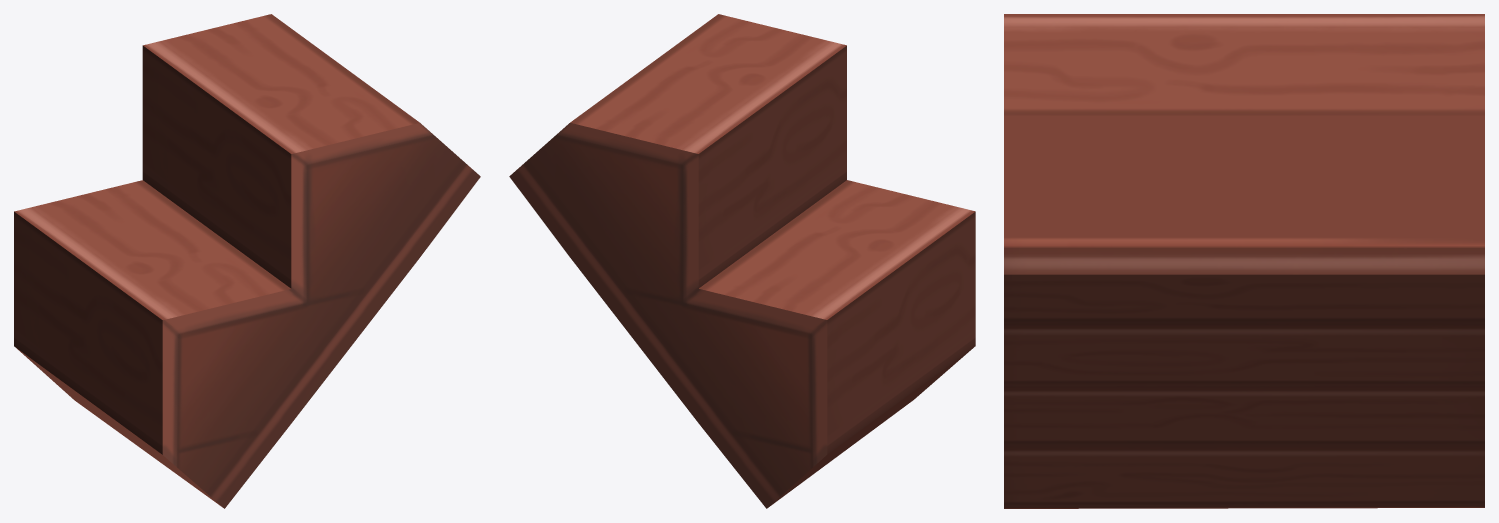
The model's file is step2.FBX.
3 renders of one model, left to right at view 1: azimuth 30°, elevation 25°; view 2: azimuth 150°, elevation 25°; view 3: azimuth 270°, elevation 25°, orthographic. The views are drawn at different scales.
Parts seen in each view (by area): view 1: Box287; view 2: Box287; view 3: Box287.
Boxes of the visible parts, left/top/right/bottom form: Box287: left=14, top=14, right=480, bottom=508; Box287: left=509, top=14, right=975, bottom=508; Box287: left=1004, top=14, right=1484, bottom=508.
Size of the model in its own units: 12.36 by 12.56 by 10.
